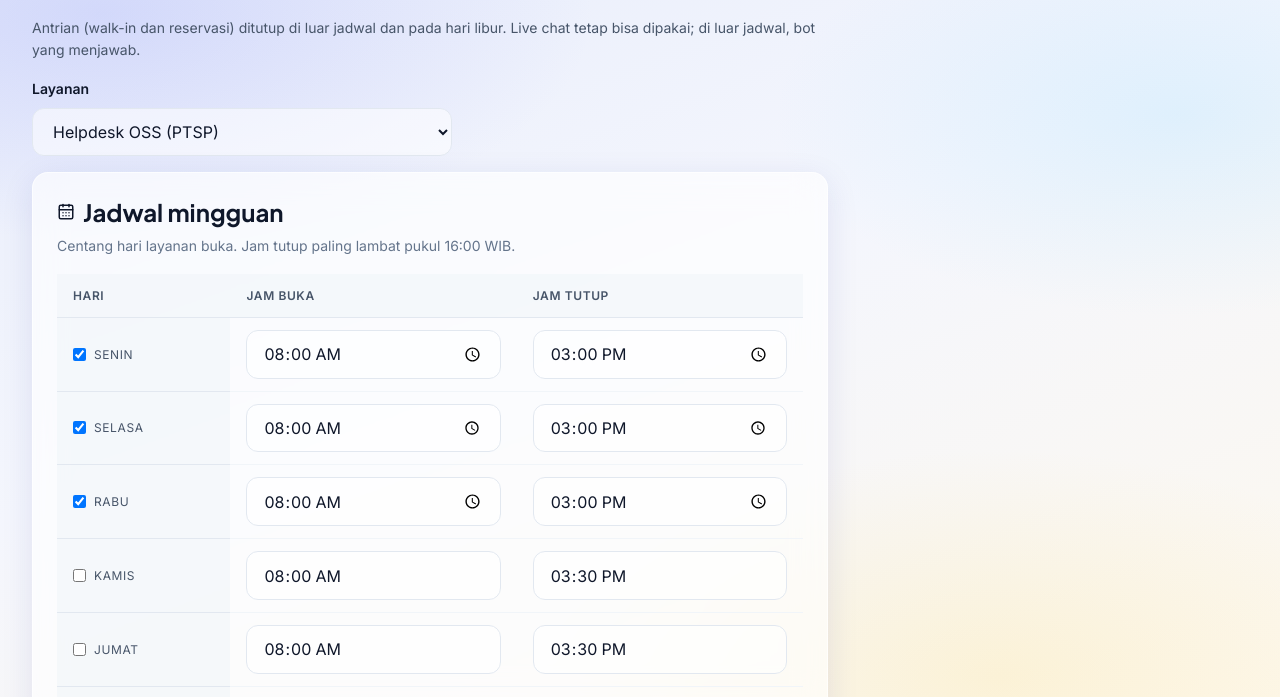
Test: admin jadwal: jadwal_standby + hari libur nasional › mengganti layanan memuat jadwal layanan itu
Expected: the checkbox labelled "Senin" is shown, [73, 348, 86, 361]
Select "Konsultasi" in the dropdown labelled "Layanan" at (242, 132), box [32, 108, 452, 156]
(page scrolled)
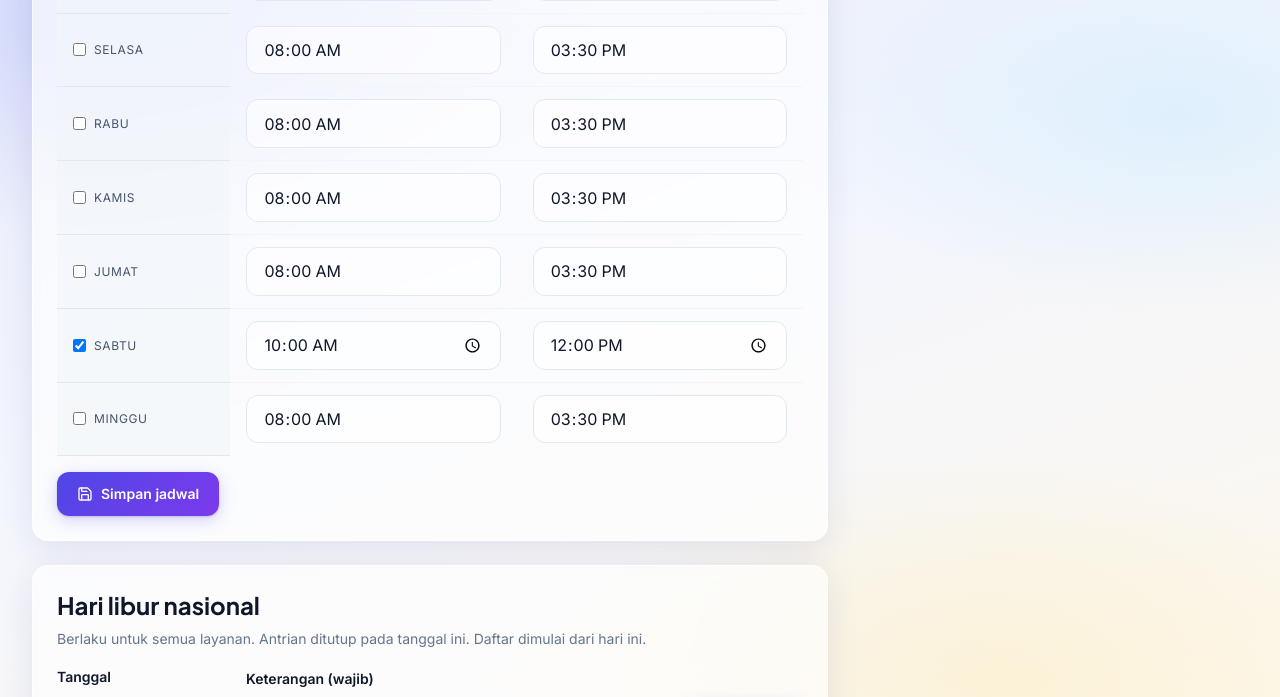
Result: the checkbox labelled "Sabtu" is checked at [73, 339, 86, 352]
